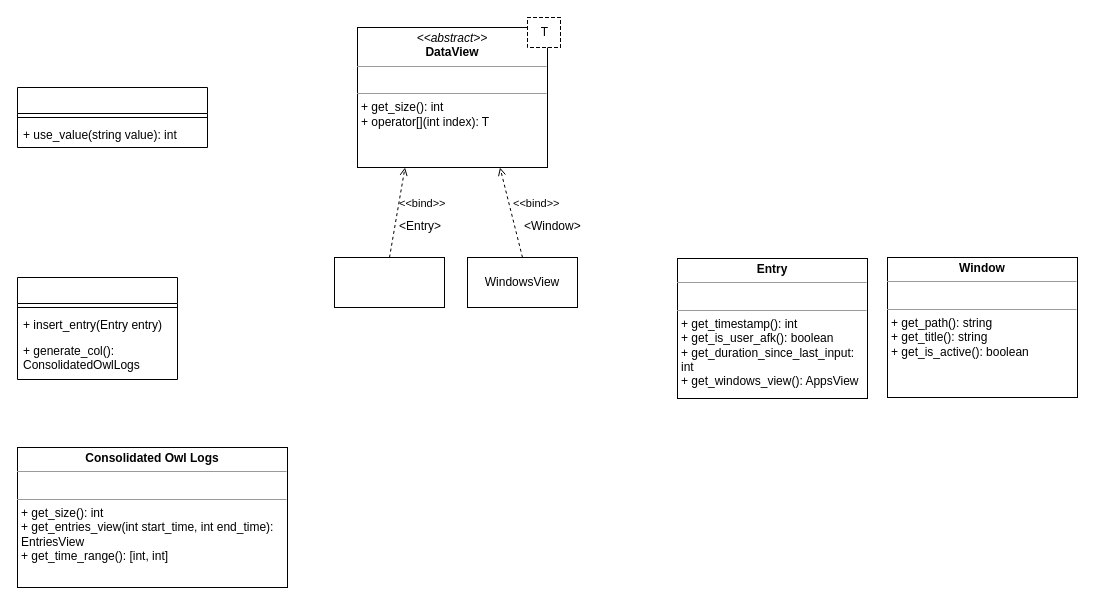
The diagram is 1095 pixels wide and 605 high, and some of its shapes have lost their labels. Here are the shapes that lost their labels. From the top down, the box of each, then its label:
(16, 86, 208, 148): Consolidator Dictionary
(334, 256, 444, 308): EntriesView
(16, 276, 178, 380): Consolidator
